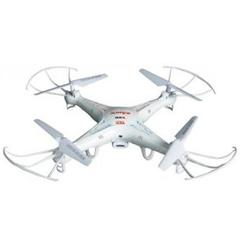drone: (3, 64, 238, 183)
